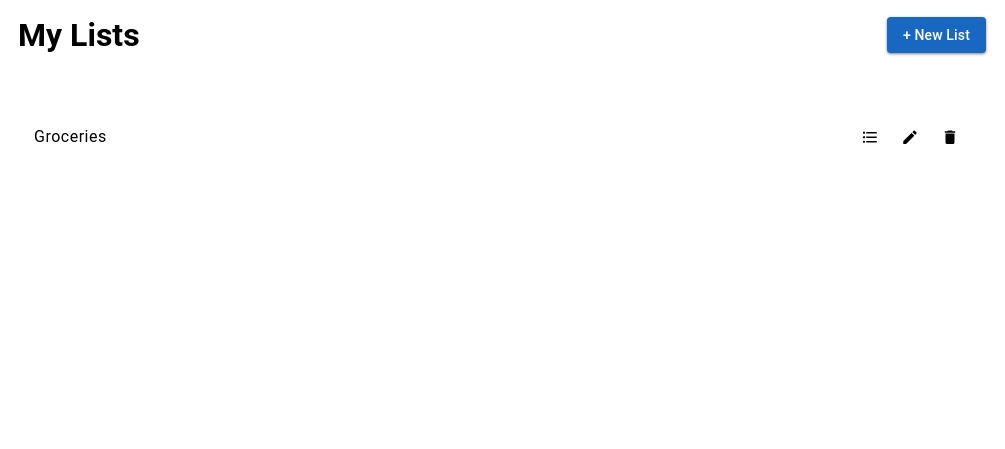
Test case: Feature 3 — Todo List Item Management › US-3.3 — Complete tasks › User marks a todo as complete
Click the button named "View items for Groceries".
click(870, 137)  # box [850,117,890,157]
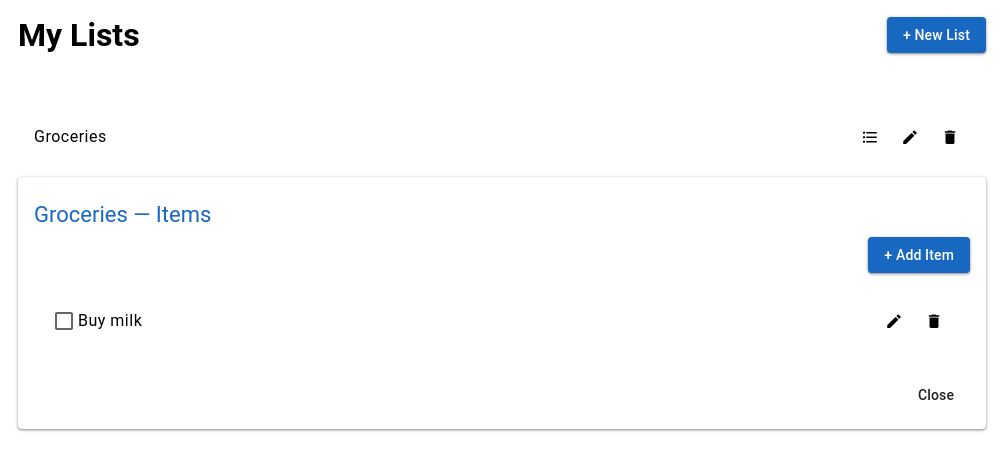
Click the checkbox.
click(64, 321)  # box [50,307,78,335]
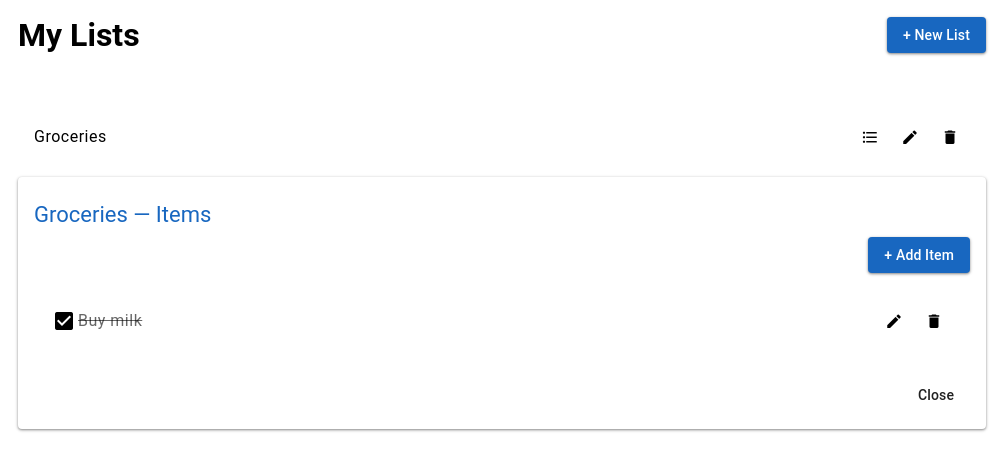
Result: the text "Buy milk" is shown at [78,311,142,330]
